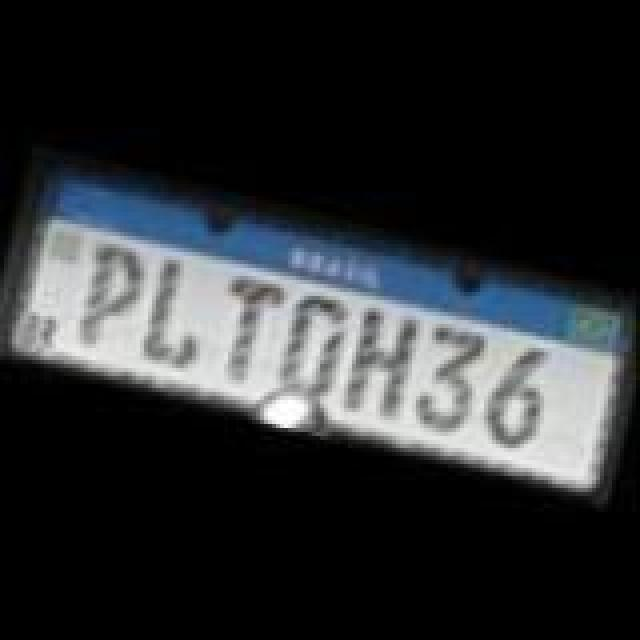3: (398, 318, 494, 442)
6: (470, 332, 562, 456)
D: (262, 286, 358, 410)
H: (330, 298, 426, 426)
L: (130, 246, 218, 370)
P: (62, 228, 158, 360)
T: (196, 264, 296, 392)
